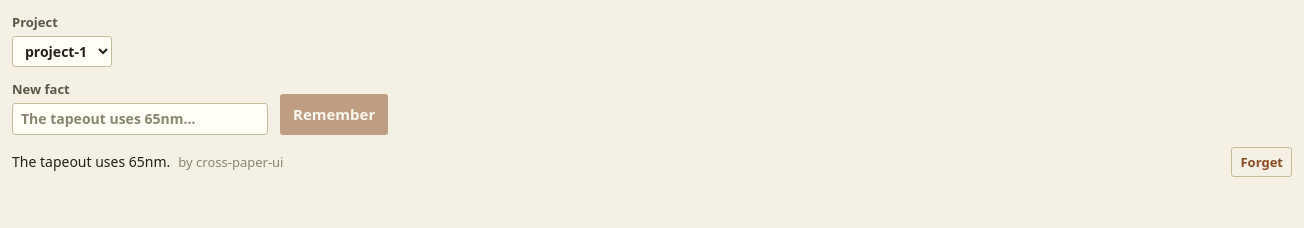
Test: MemoryPanel › remembers and forgets facts
Expected: the text "The tapeout uses 65nm." is shown, [12,151,170,173]
Type "Corners first, always." into the field named "Memory fact".
click(140, 119); type("Corners first, always.")  # box [12,103,268,135]
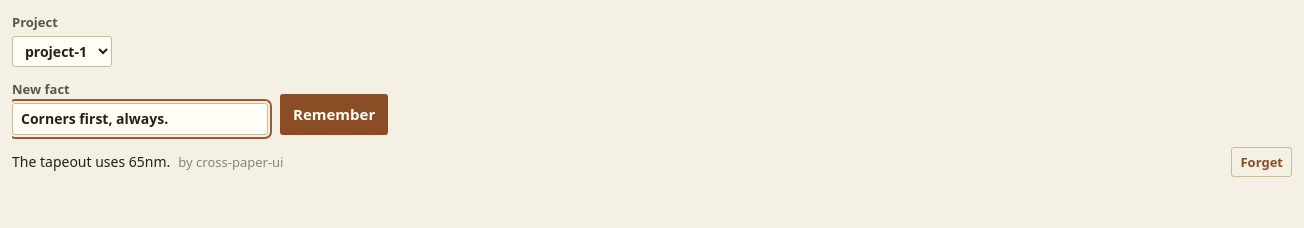
Click the button "Remember".
click(334, 114)  # box [280,94,388,135]
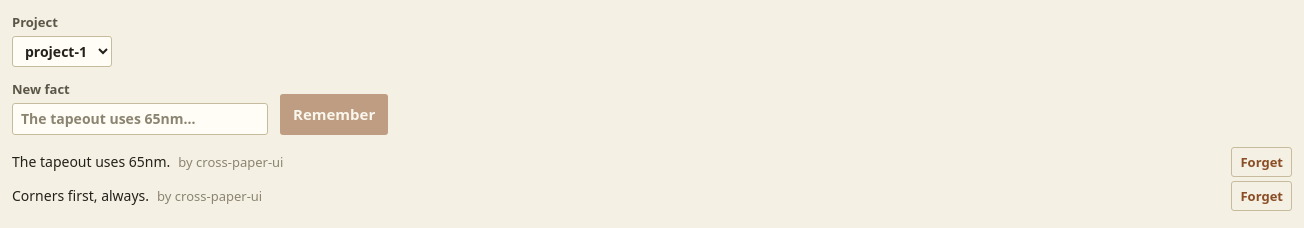
Now the text "Corners first, always." is shown, box [12,185,149,207]
Click the button with aria-label "Forget: The tapeout uses 65nm.".
click(1262, 162)  # box [1232,147,1292,177]
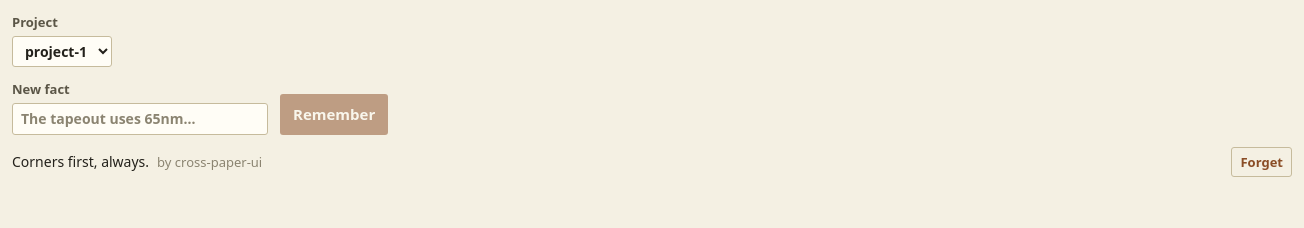
Now the text "Corners first, always." is shown, box [12,151,149,173]
Now the text "The tapeout uses 65nm." is gone
